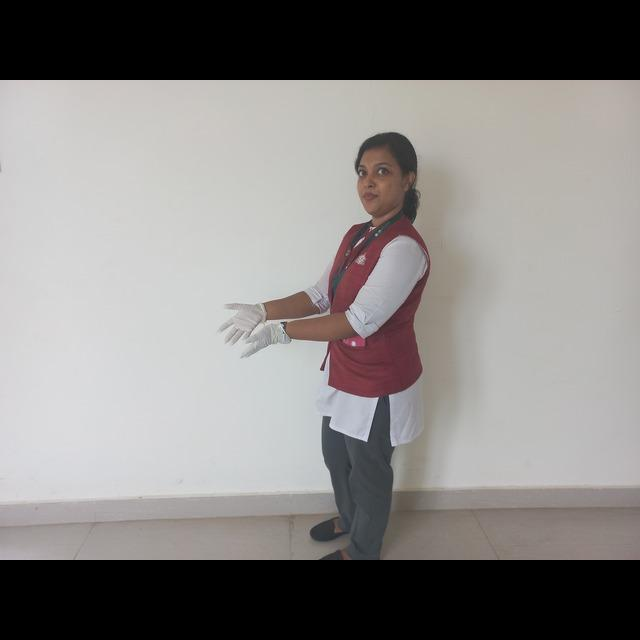gloves: (218, 296, 266, 346), (240, 318, 294, 361)
no_apron: (324, 223, 397, 389)
no_hairnet: (350, 125, 425, 177)
